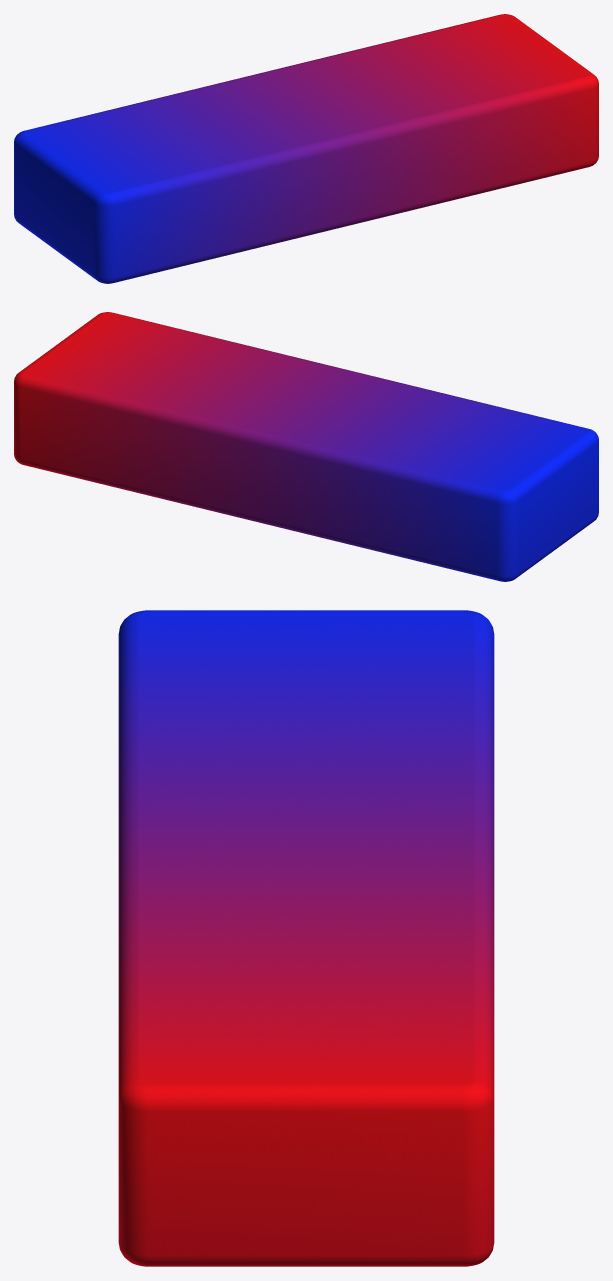
The model's file is Paddle-33.dae.
3 views of the same model, one above another, from view 1: azimuth 30°, elevation 25°; view 2: azimuth 150°, elevation 25°; view 3: azimuth 270°, elevation 25° (orthographic). The views are drawn at different scales.
Visible parts, largest first — view 1: Paddle; view 2: Paddle; view 3: Paddle.
Boxes of the visible parts, bbox=[...] form: Paddle: bbox=[14, 14, 598, 283]; Paddle: bbox=[14, 312, 598, 581]; Paddle: bbox=[118, 610, 494, 1266].
Size of the model in its own units: 0.2922 by 0.05 by 0.0947.
1 material, 1 textured.
